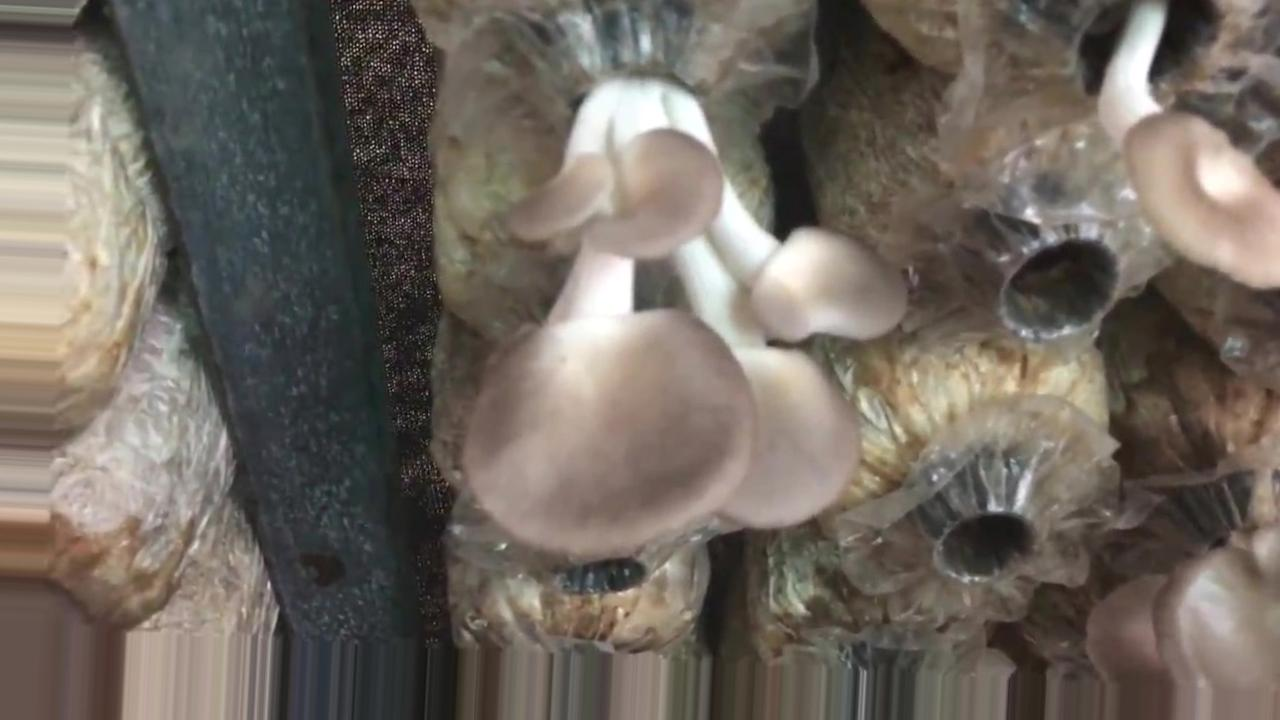nam: (464, 21, 907, 553), (1070, 2, 1280, 288)
